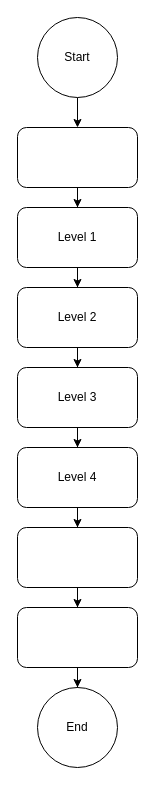
The diagram is 155 pixels wide and 785 high, and some of its shapes have lost their labels. Each missing label, with the centre of its shape:
"Game Menu" belongs at point 77,157.
"Level 5" belongs at point 77,557.
"Result scene" belongs at point 77,637.
